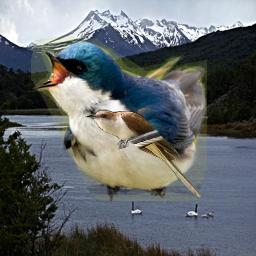Cuckoo: (85, 109, 203, 200)
Swallow: (31, 36, 207, 201)
